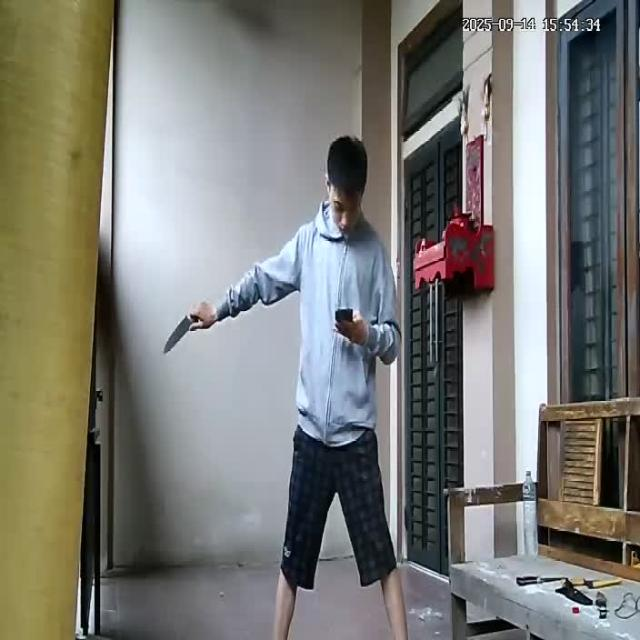senjata_tajam: (161, 316, 191, 355)
